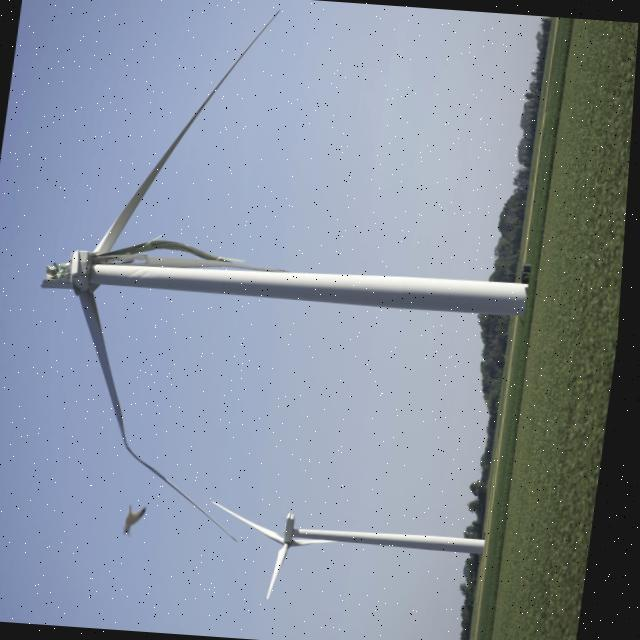damaged-blade: (82, 288, 244, 540), (94, 238, 284, 268), (45, 260, 75, 288)
solid-blade: (98, 8, 280, 252), (220, 500, 291, 544), (275, 542, 297, 597)
